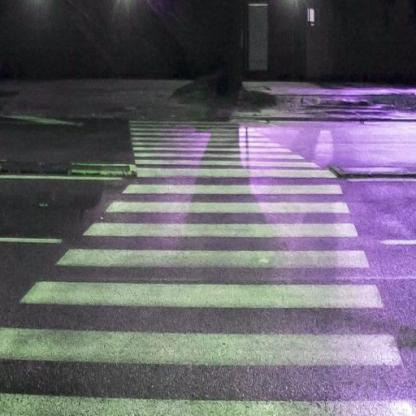crosswalk: (1, 271, 405, 373), (103, 180, 351, 216)
